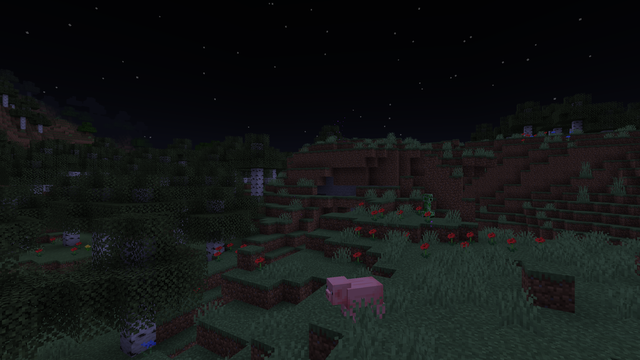cochons: (338, 273, 382, 328)
creepers: (422, 192, 432, 217)
